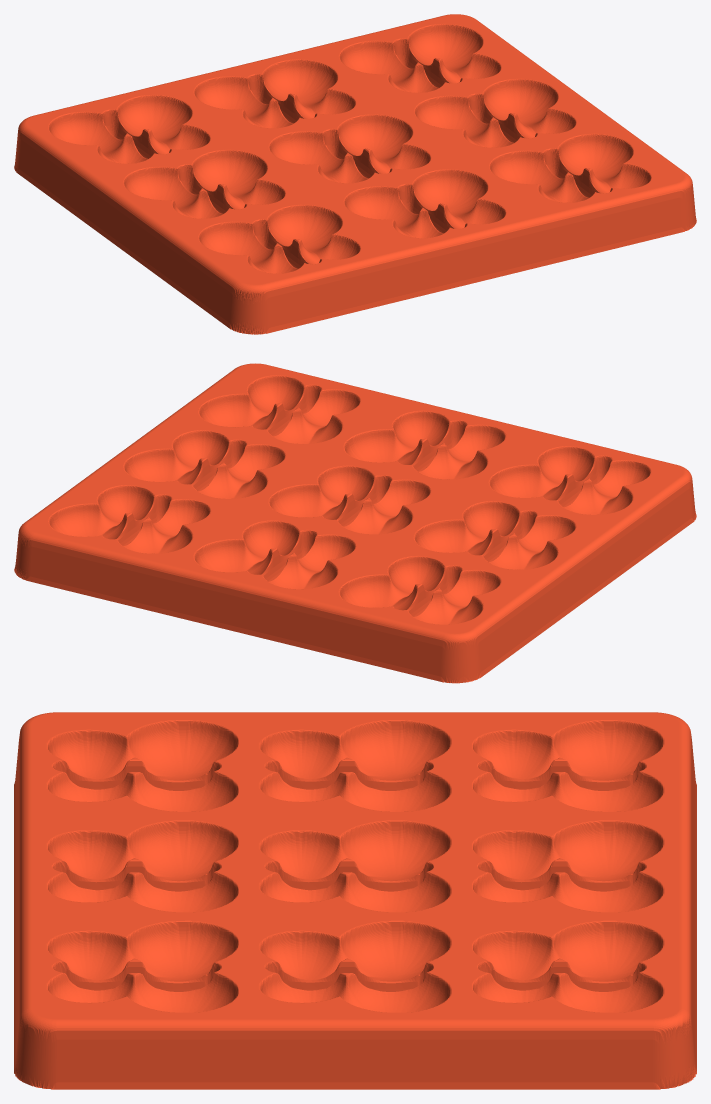
Rendered from mold.glb.
The picture shows the model from 3 angles, top to bottom: view 1: azimuth 30°, elevation 25°; view 2: azimuth 150°, elevation 25°; view 3: azimuth 270°, elevation 25°; orthographic projection. The views are drawn at different scales.
Parts seen in each view (by area): view 1: geometry_0; view 2: geometry_0; view 3: geometry_0.
Boxes of the visible parts, x1=… form: geometry_0: x1=14, y1=14, x2=696, y2=334; geometry_0: x1=14, y1=363, x2=696, y2=683; geometry_0: x1=14, y1=712, x2=696, y2=1089.
Bounding box in the file's own units: 0.1579 × 0.0145 × 0.1422.
